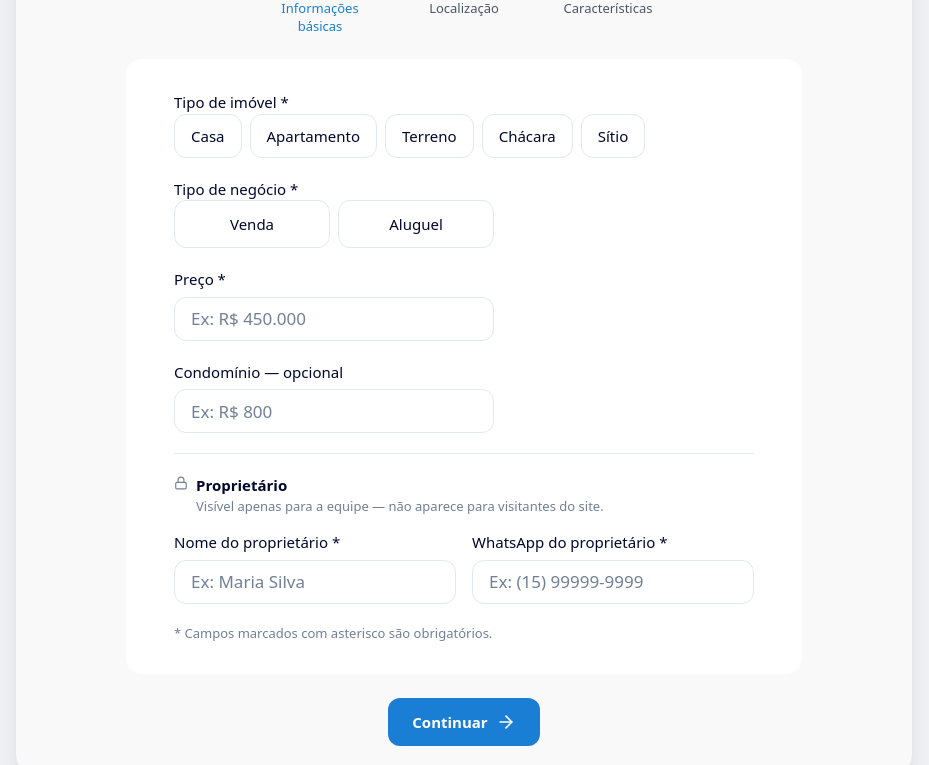
Test: PropertyForm — step 1 validation blocks navigation › shows the first Zod error and stays on step 1 when nothing is filled
(page scrolled)
Click the button "Continuar".
click(464, 722)  # box [388,698,540,746]
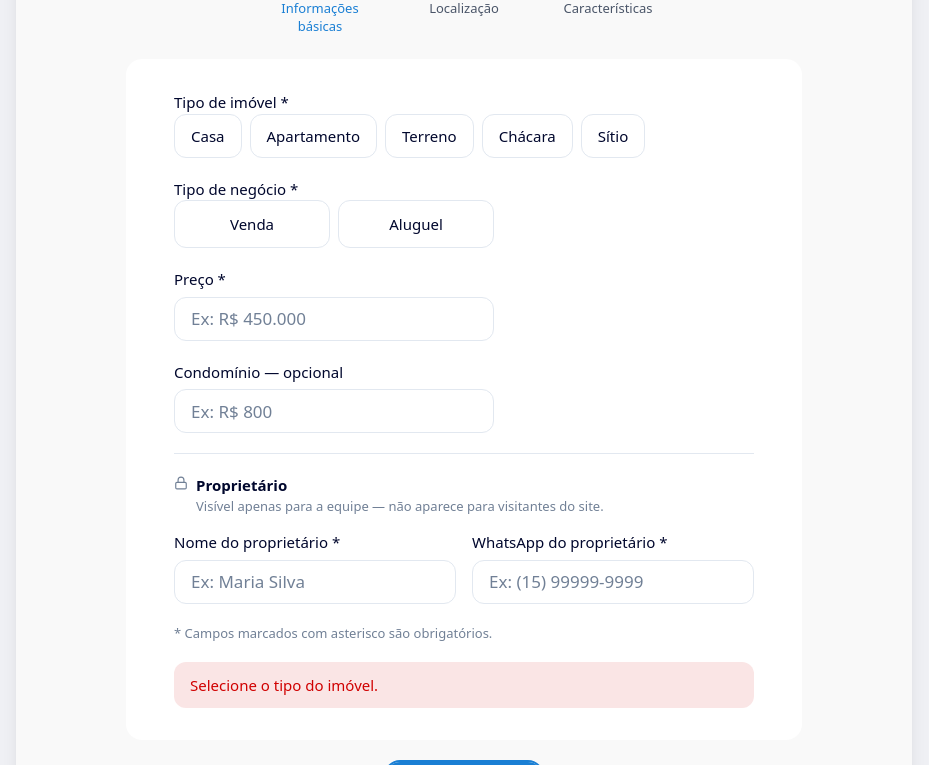
Check: the text "Selecione o tipo do imóvel." is shown, box [174,662,754,708]
